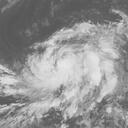cyclone: (28, 22, 119, 107)
